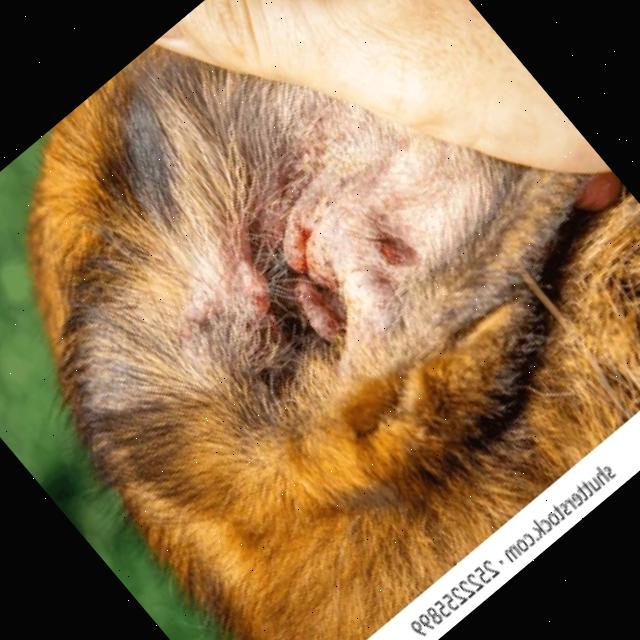cat-ringworm: (265, 208, 350, 298), (221, 242, 289, 316), (286, 276, 343, 340)
